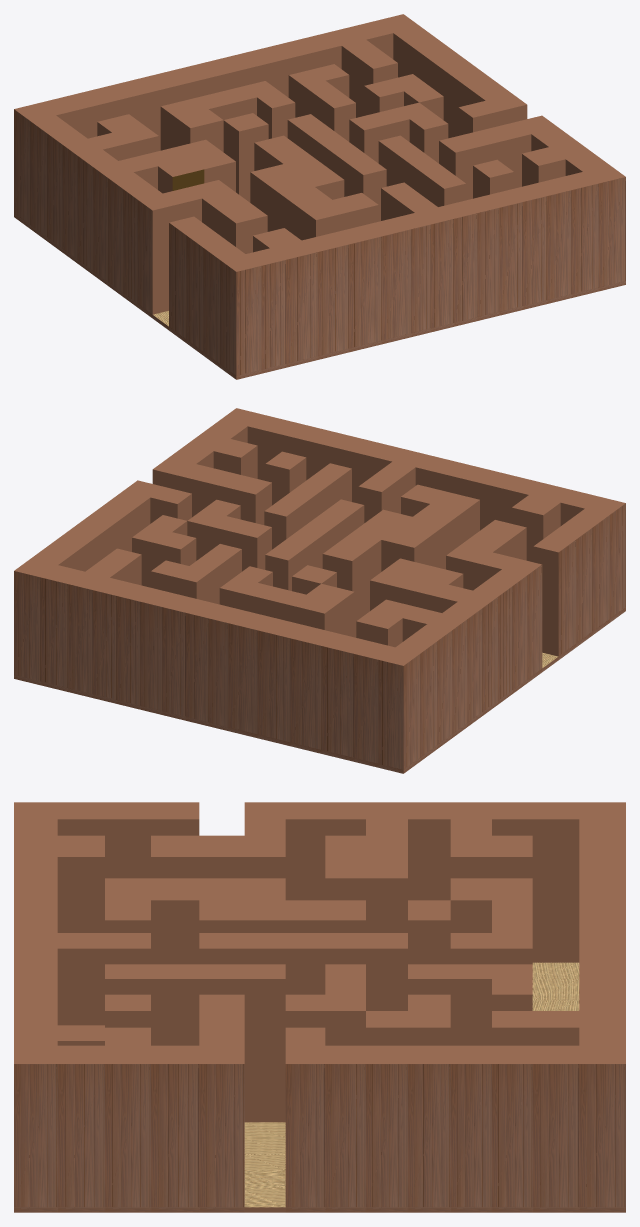
Rendered from lab2.fbx.
3 renders of one model, top to bottom at view 1: azimuth 30°, elevation 25°; view 2: azimuth 150°, elevation 25°; view 3: azimuth 270°, elevation 25°, orthographic. The views are drawn at different scales.
Visible parts, largest first — view 1: Cube; view 2: Cube; view 3: Cube.
Part boxes in pixels (left/top/right/bottom): Cube: left=14, top=14, right=625, bottom=379; Cube: left=14, top=408, right=625, bottom=773; Cube: left=14, top=802, right=625, bottom=1212.
Bounding box in the file's own units: 6935 × 1837 × 6858.
